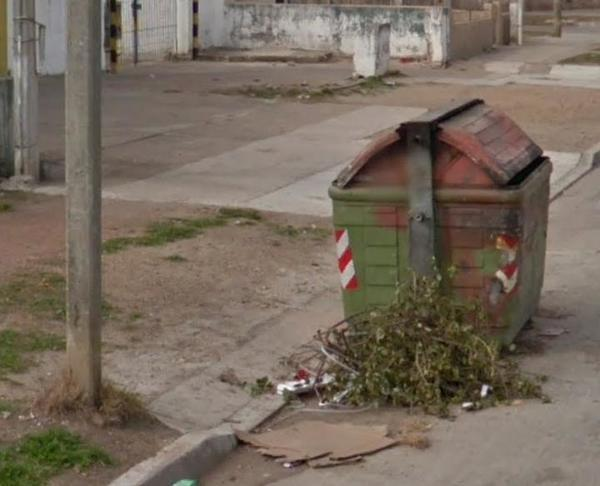Dechets: (311, 278, 539, 416), (219, 410, 407, 485)
Trash: (328, 99, 552, 345)
